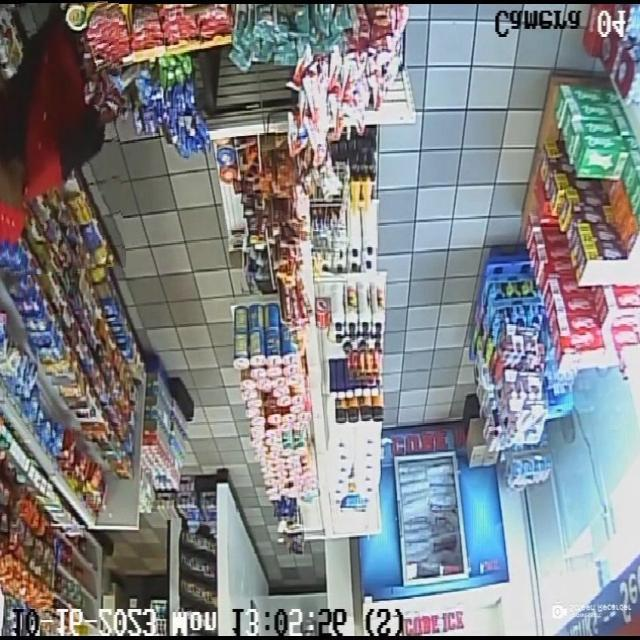Normal: (0, 3, 121, 274)
